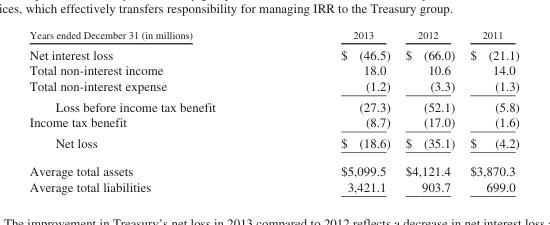table: (28, 28, 518, 193)
table column: (28, 28, 277, 193), (277, 28, 397, 193), (397, 28, 461, 193), (461, 28, 518, 193)
table column header: (28, 28, 518, 43)
table row: (28, 132, 518, 156), (28, 156, 518, 178), (28, 43, 518, 62), (28, 113, 518, 132), (28, 77, 518, 95), (28, 95, 518, 113), (28, 28, 518, 43), (28, 62, 518, 77), (28, 178, 518, 193)
